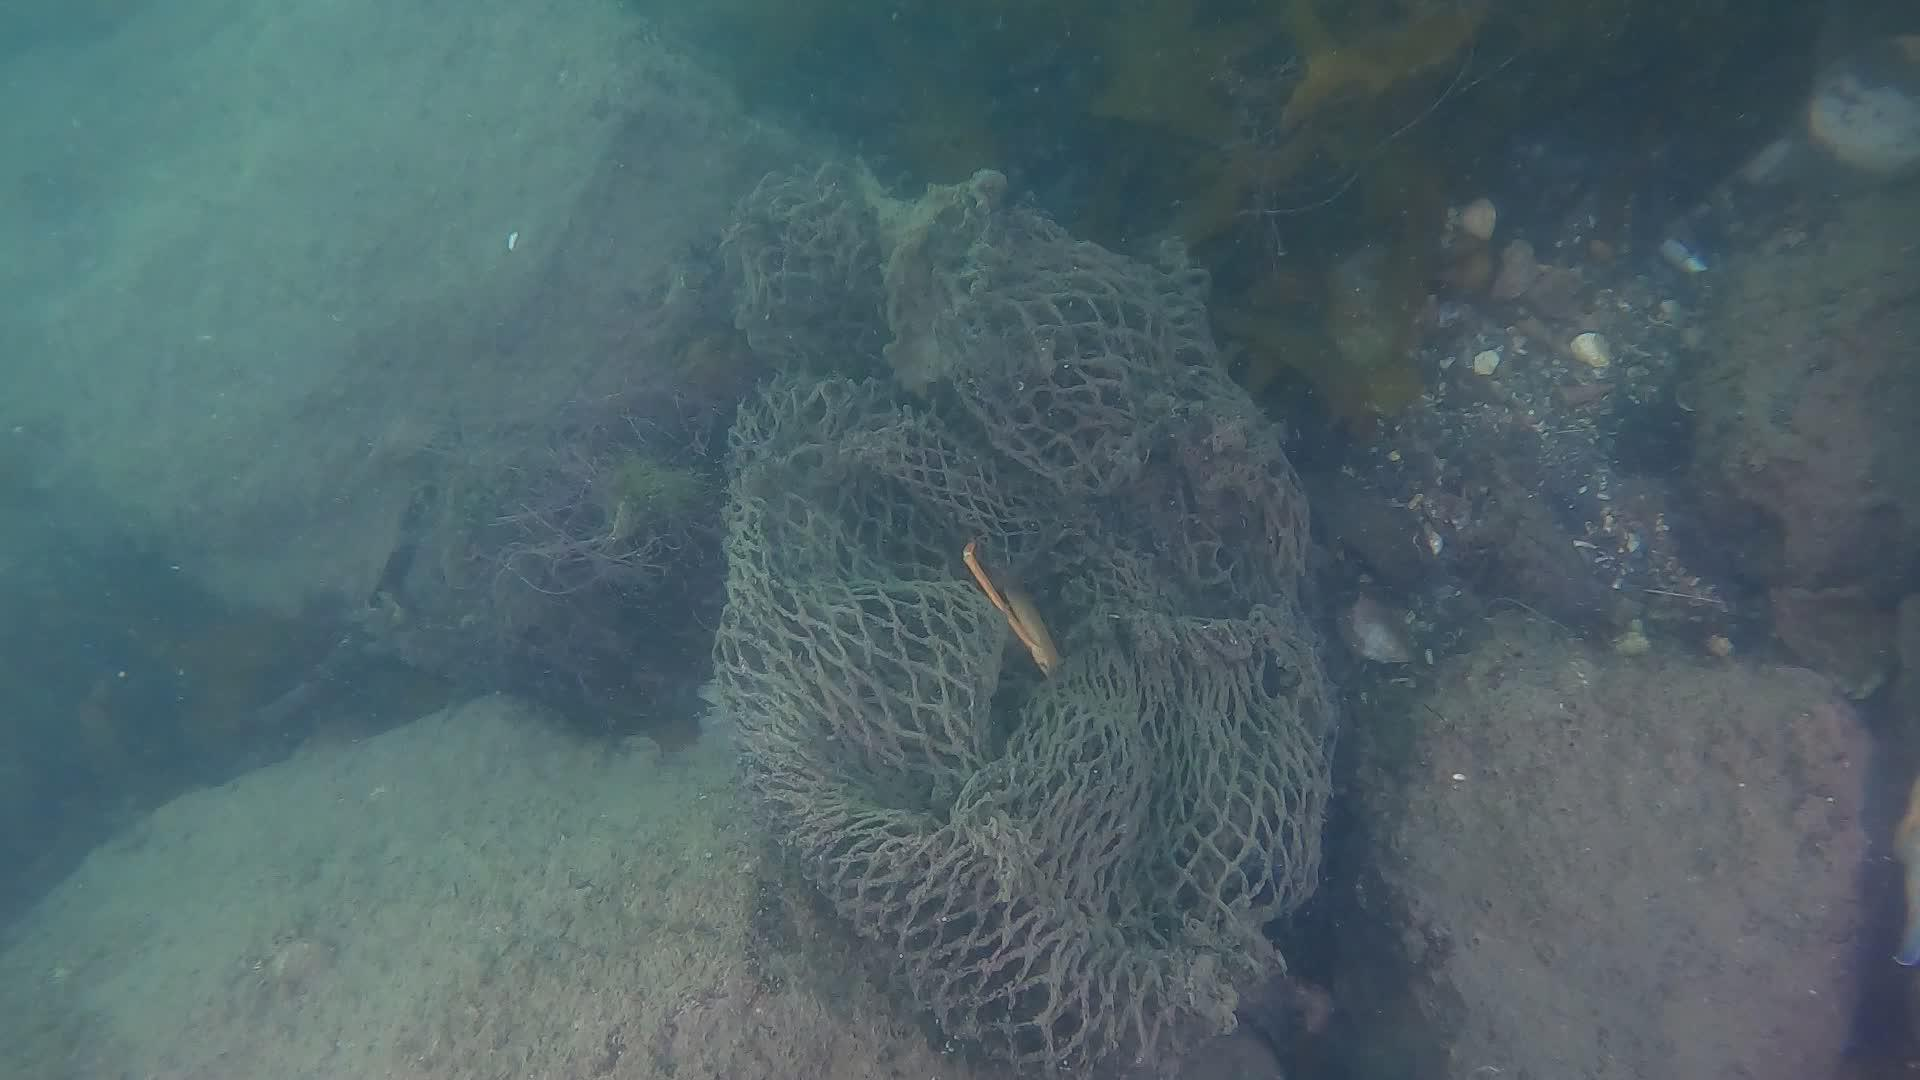fish net: (705, 150, 1346, 1079)
